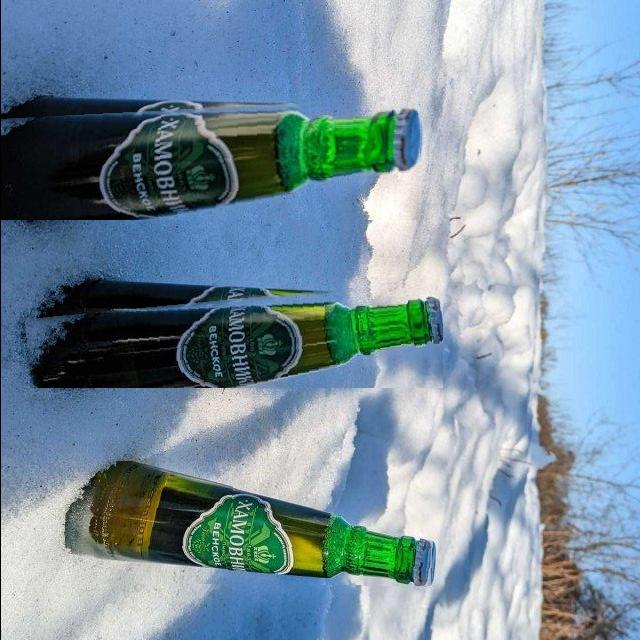Glass: (0, 97, 421, 220), (64, 461, 436, 586), (24, 279, 442, 388)
